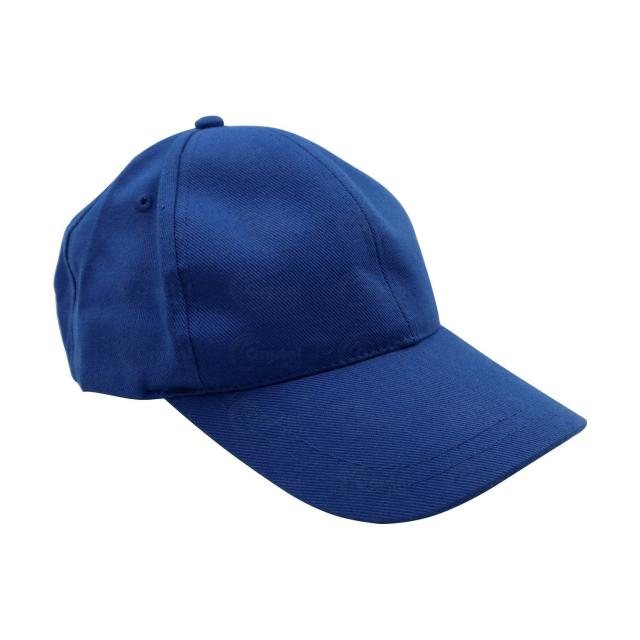mask: (52, 73, 605, 520)
